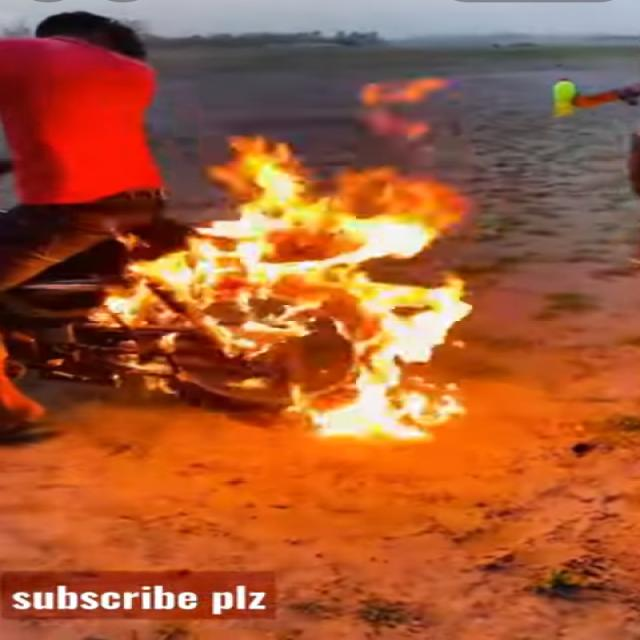fire: (304, 272, 473, 443), (190, 218, 271, 287), (338, 213, 430, 263), (128, 250, 205, 307), (239, 153, 308, 216), (83, 279, 150, 326), (203, 313, 255, 356), (244, 305, 305, 336), (272, 257, 336, 277)
